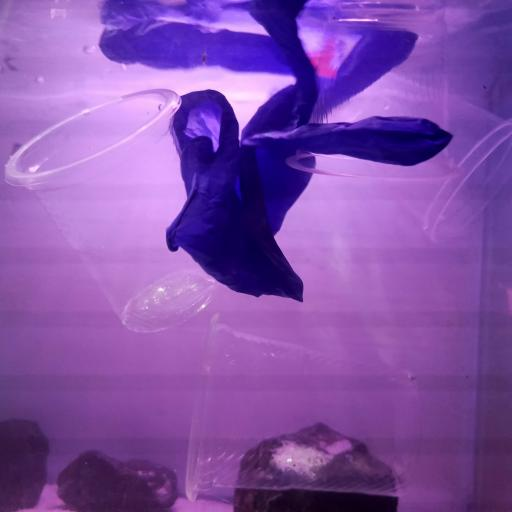glove: (97, 0, 454, 303)
plastic_cup: (0, 85, 218, 336), (184, 311, 421, 503), (335, 74, 512, 247), (283, 16, 463, 184)
